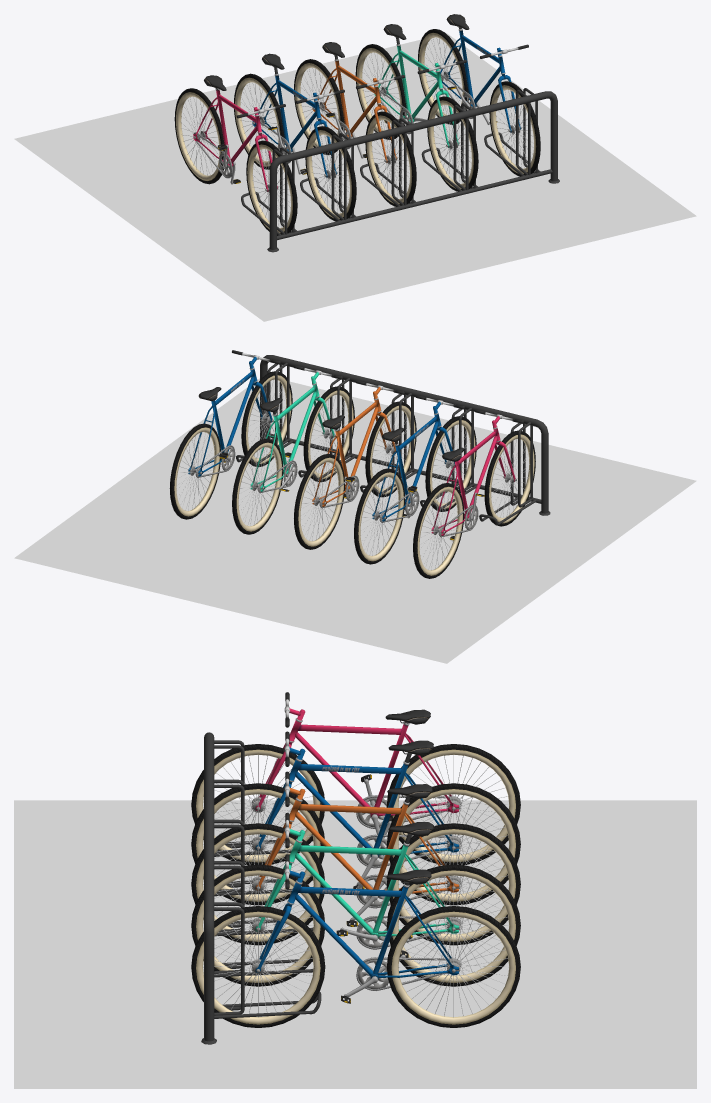
Rendered from BYCICLE_PROOP.fbx.
3 renders of one model, top to bottom at view 1: azimuth 30°, elevation 25°; view 2: azimuth 150°, elevation 25°; view 3: azimuth 270°, elevation 25°, orthographic. The views are drawn at different scales.
Visible parts, largest first — view 1: floor, bic_main; view 2: floor, bic_main; view 3: floor, bic_main.
Part boxes in pixels (x1=…): floor: x1=14, y1=33, x2=696, y2=321; bic_main: x1=174, y1=14, x2=559, y2=252; floor: x1=14, y1=378, x2=696, y2=663; bic_main: x1=169, y1=350, x2=550, y2=578; floor: x1=14, y1=800, x2=696, y2=1088; bic_main: x1=191, y1=692, x2=520, y2=1044.
Bounding box in the file's own units: 1952 × 508 × 1952.
